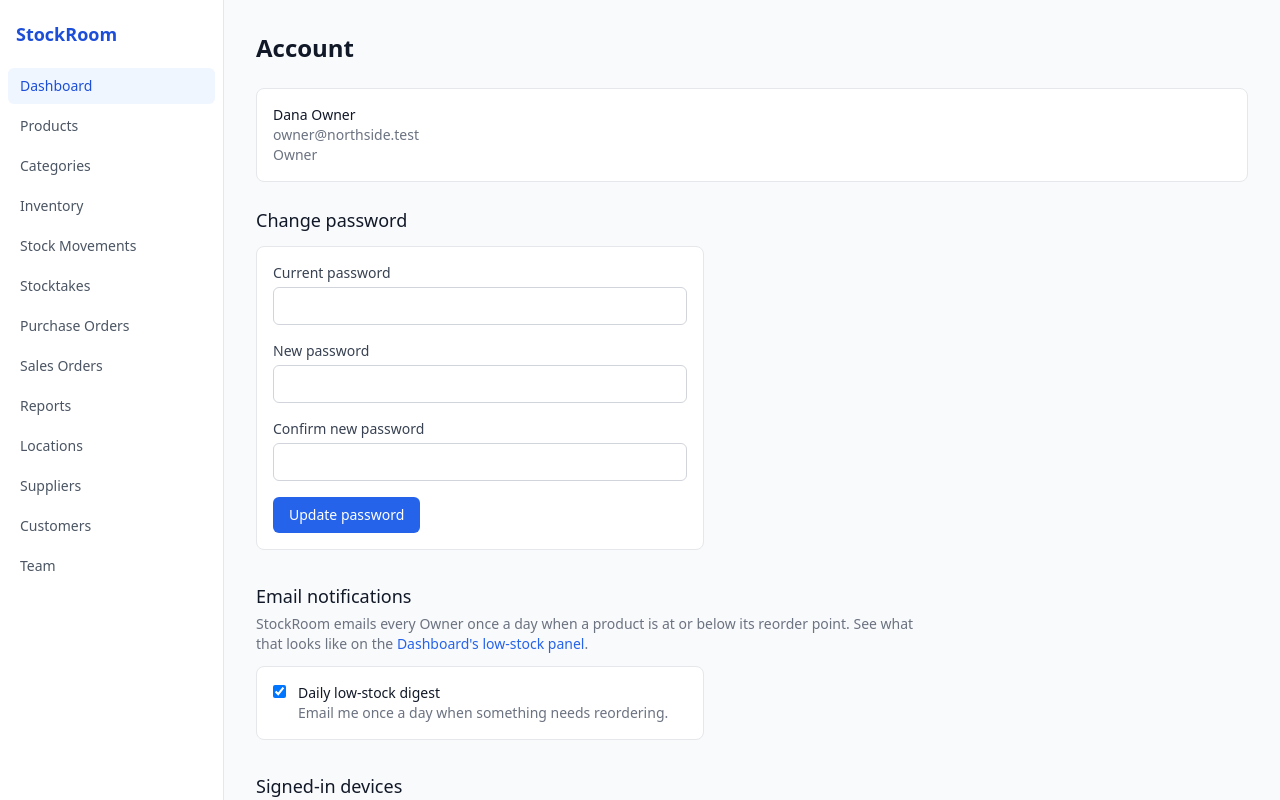
Test case: AccountPage notifications › surfaces a failed update instead of silently reverting
Click the checkbox labelled "Daily low-stock digest".
click(280, 692)  # box [273,685,286,698]
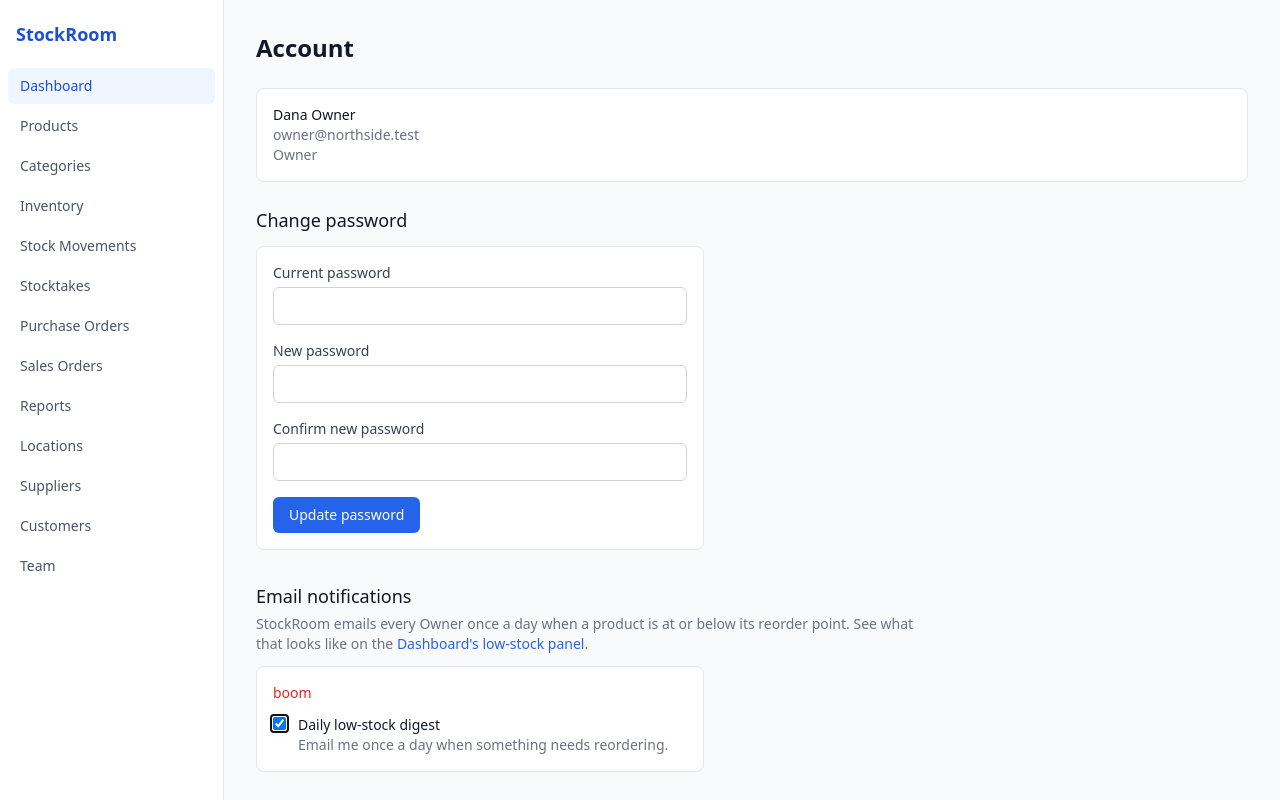
Check: the text "boom" is shown, box [273,683,312,702]
